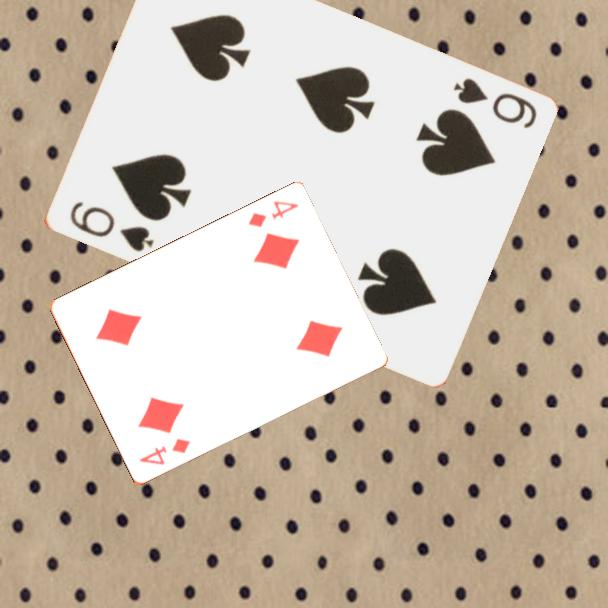d04: (244, 198, 302, 231), (136, 435, 193, 468)
s06: (65, 198, 157, 256), (449, 74, 539, 132)
